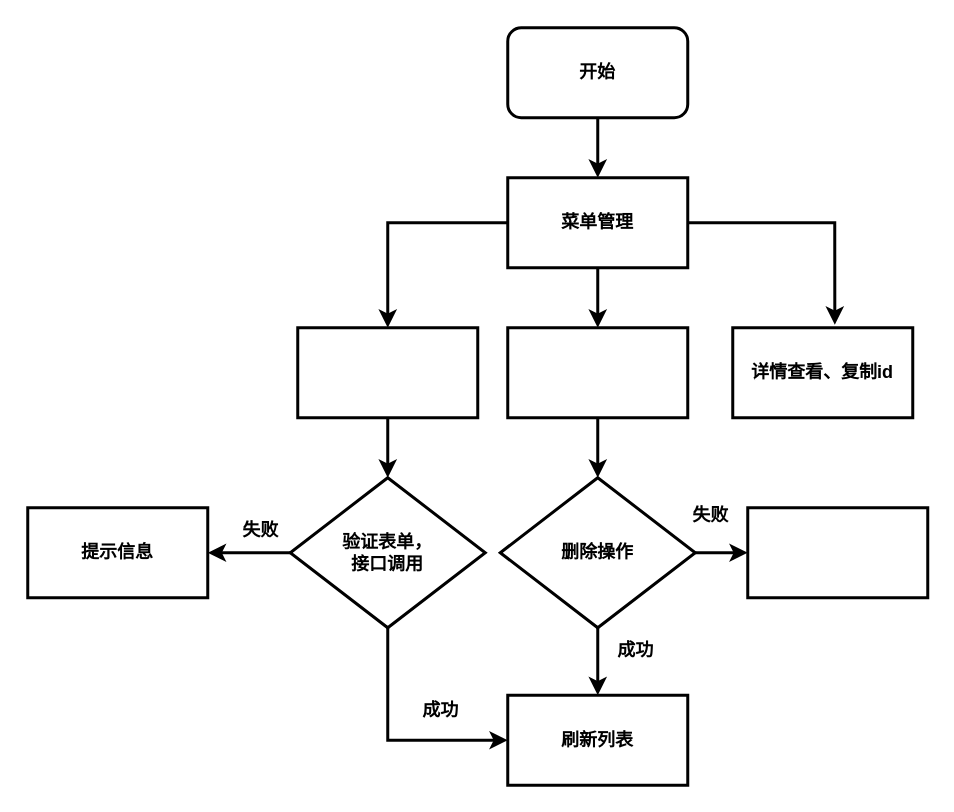
The diagram is 954 pixels wide and 812 high, and some of its shapes have lost their labels. The shapes that lost their labels are listed below. From the top down, each one's centre as x and y in pixels, then its label:
At (387,372): "新增、编辑菜单".
At (597,372): "删除、批量删除".
At (837,552): "失败提示".
